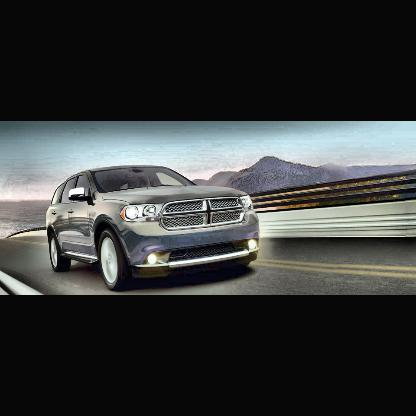Dodge Durango SUV 2012: (47, 165, 261, 292)
